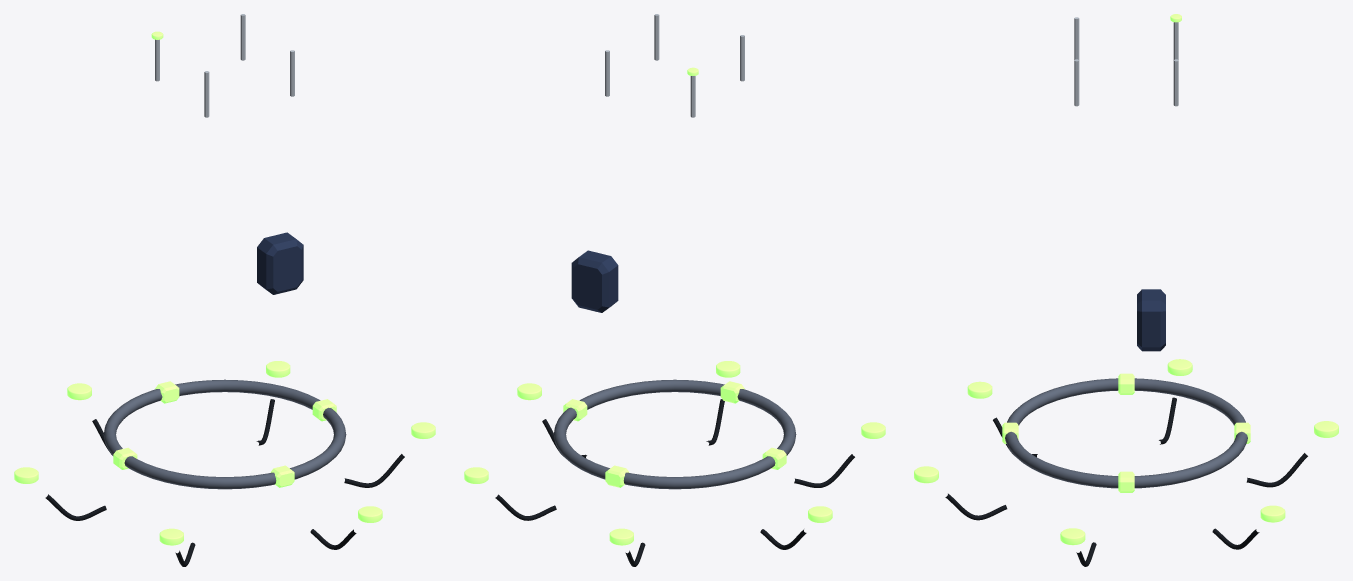
Rendered from tower_detector_field_s5.glb.
3 views of the same model, side by side, from view 1: azimuth 30°, elevation 25°; view 2: azimuth 150°, elevation 25°; view 3: azimuth 270°, elevation 25° (orthographic).
Visible parts, largest first — view 1: detector_base_ring, detector_relay; view 2: detector_base_ring, detector_relay; view 3: detector_base_ring, detector_relay.
Boxes of the visible parts, x1,y1,x2,y2 form: detector_base_ring: (103, 379, 346, 489); detector_relay: (257, 232, 303, 294); detector_base_ring: (553, 379, 796, 489); detector_relay: (571, 250, 618, 312); detector_base_ring: (1005, 378, 1247, 488); detector_relay: (1137, 289, 1165, 351).
Size of what is drawn, in the model's own units: 2.05 by 2.48 by 2.05.
